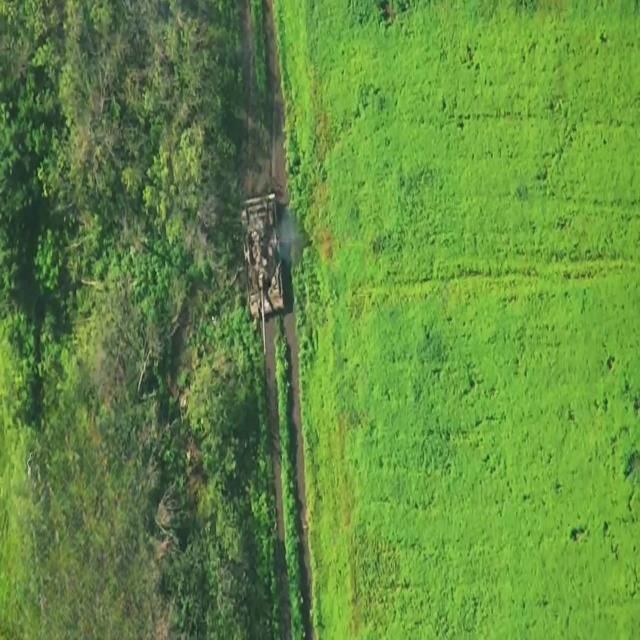MBT: (242, 193, 286, 357)
